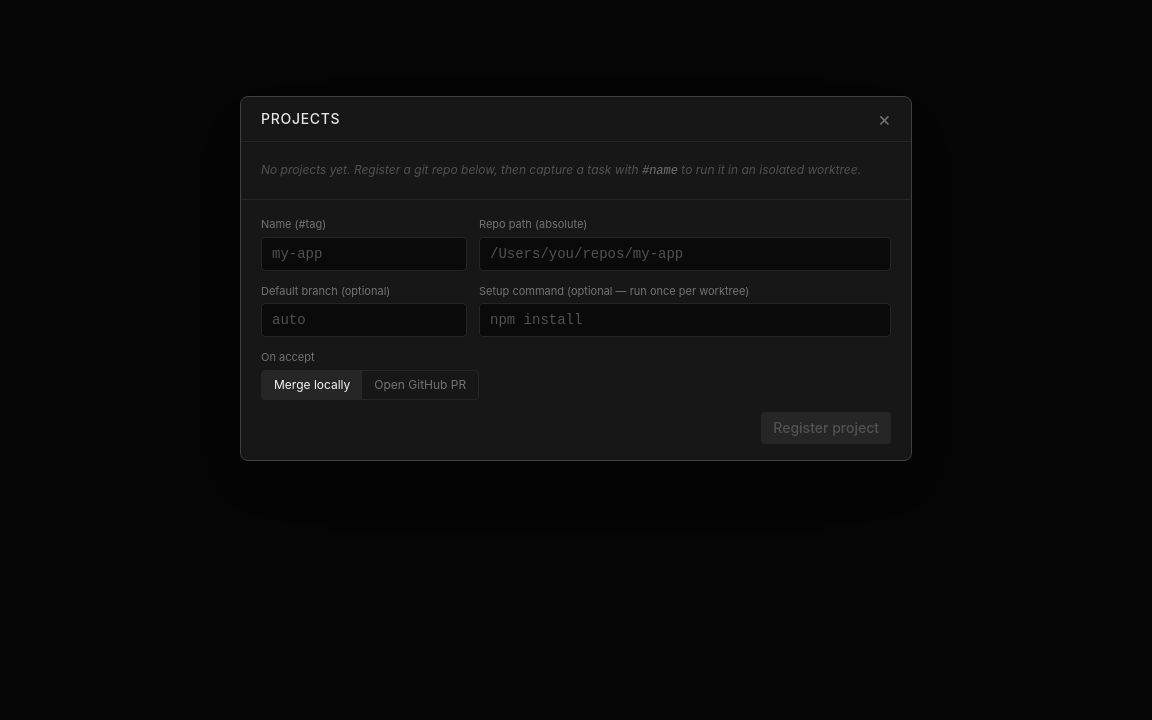
ProjectsPanel › surfaces the server error and keeps the form filled on failure
In the field with placeholder "my-app": [364, 254] box [261,236,467,270], type "bad"
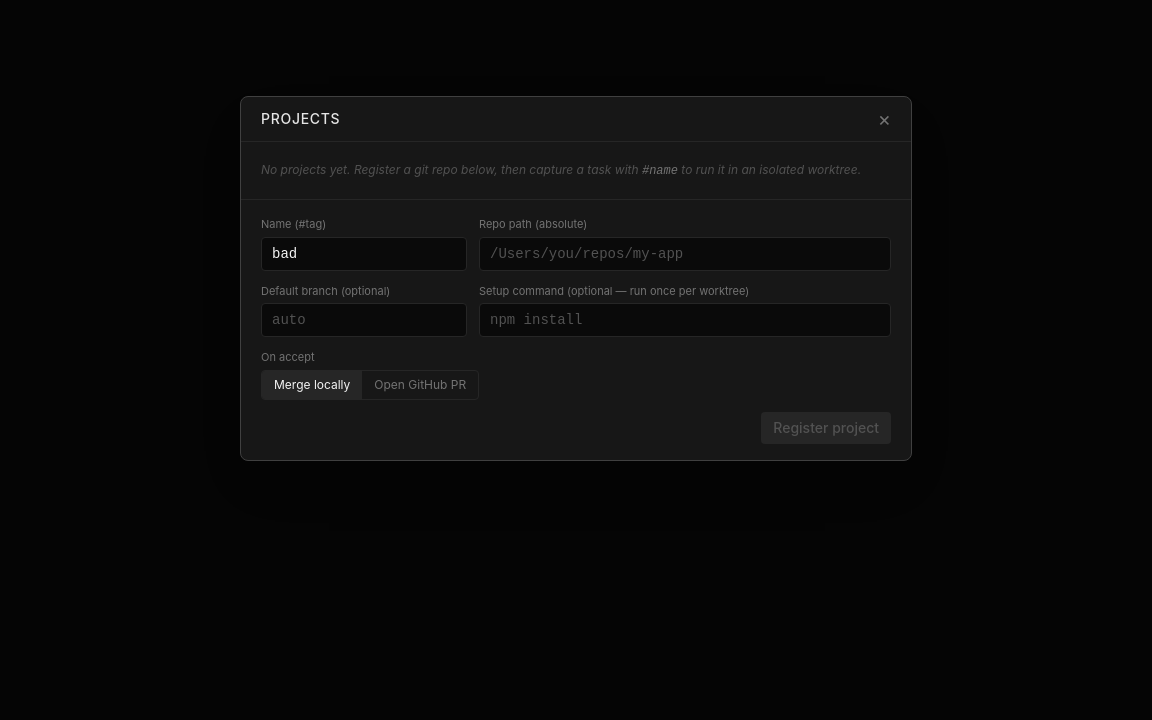
In the field with placeholder "/Users/you/repos/my-app": [685, 254] box [479,236,891,270], type "/nope"
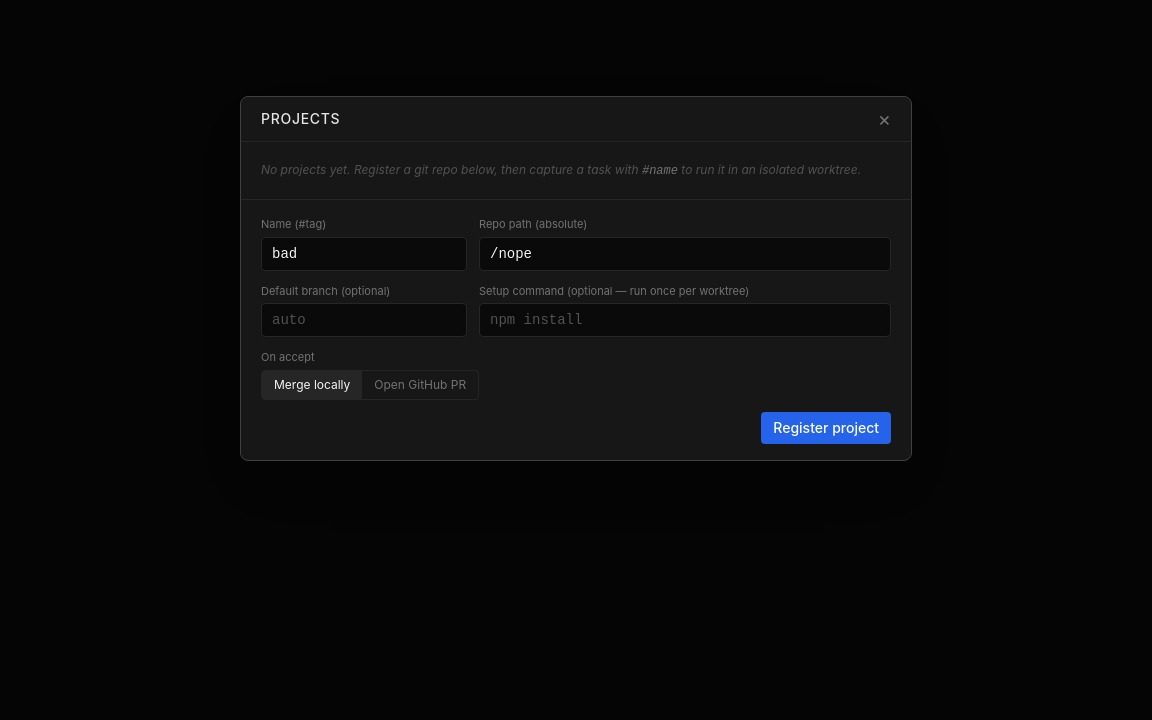
Click the button "Register project": [826, 428] box [761,412,891,444]
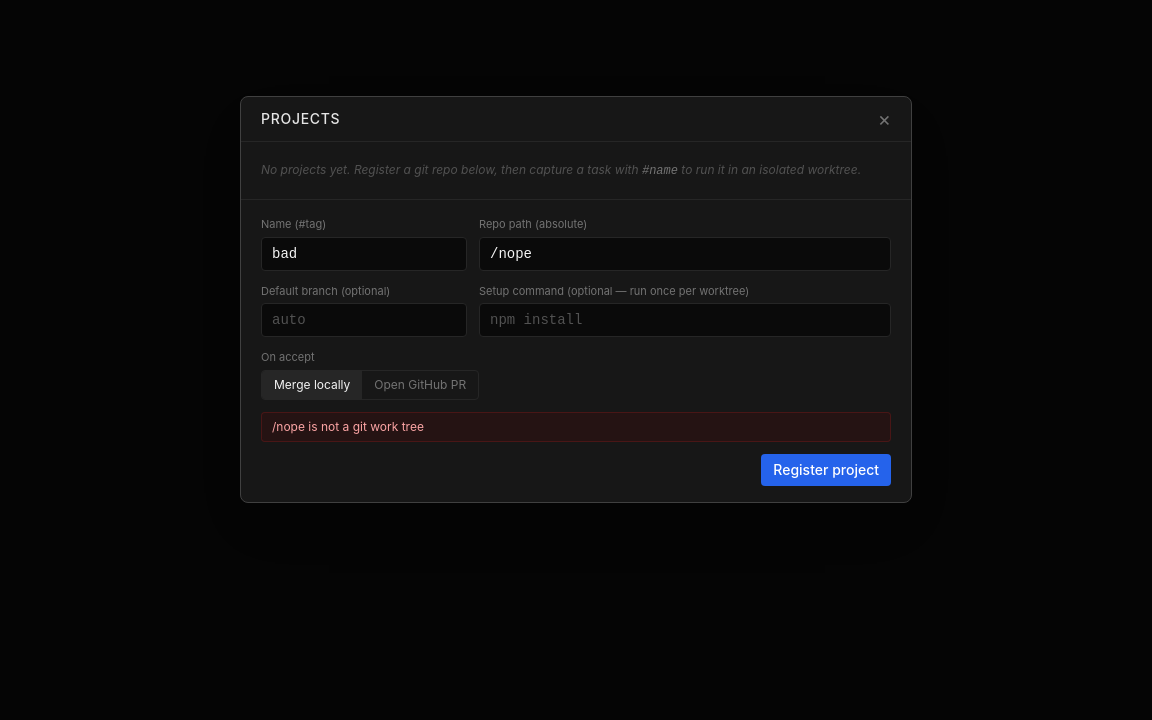
Expected: the text "/nope is not a git work tree" is shown, [261,412,891,442]
